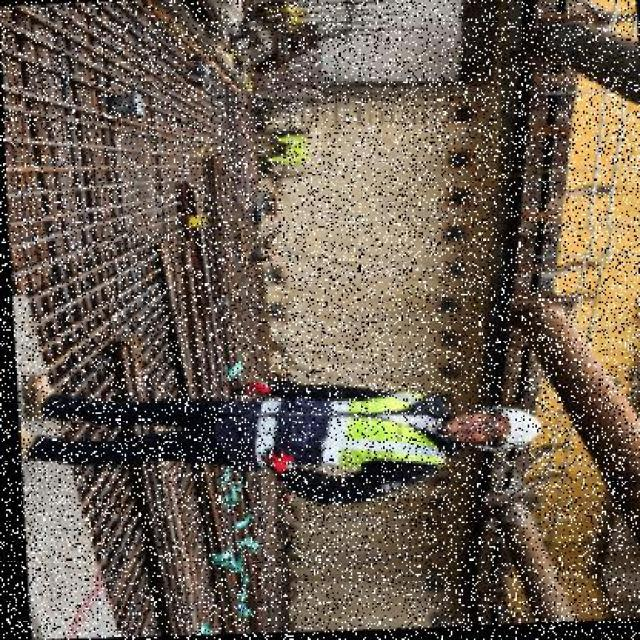helmet: (471, 397, 542, 461)
vest: (208, 381, 443, 483)
